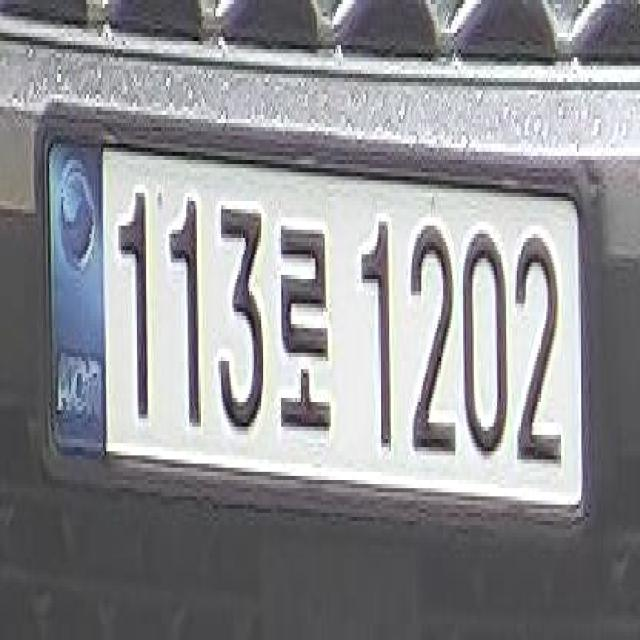illegal_plate: (34, 116, 592, 544)
